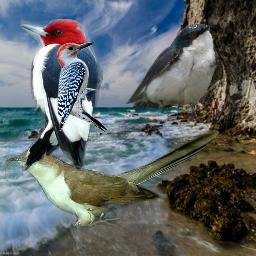Cuckoo: (5, 128, 219, 226)
Swallow: (125, 23, 224, 122)
Woodpecker: (20, 14, 103, 176), (52, 38, 113, 139)
